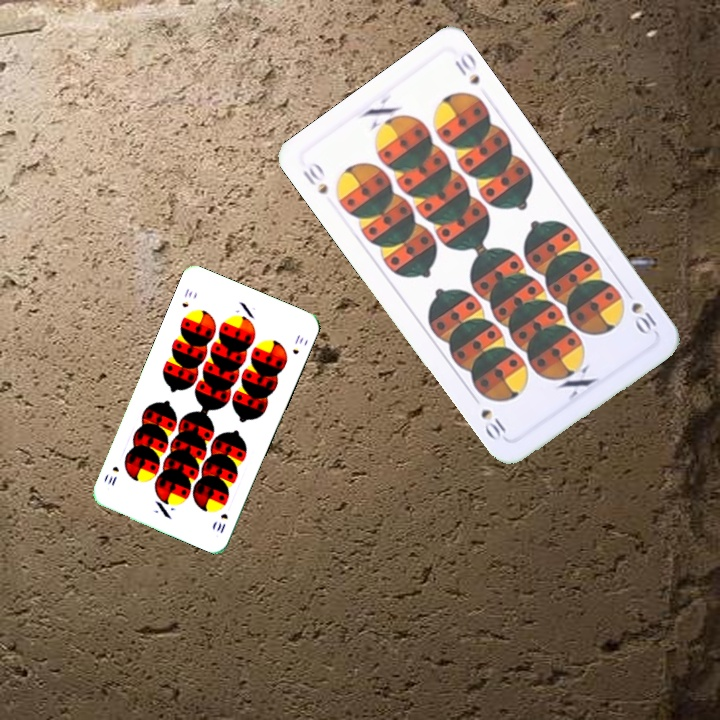S10: (620, 284, 660, 338), (298, 157, 331, 197), (212, 509, 231, 536), (178, 284, 195, 310)
